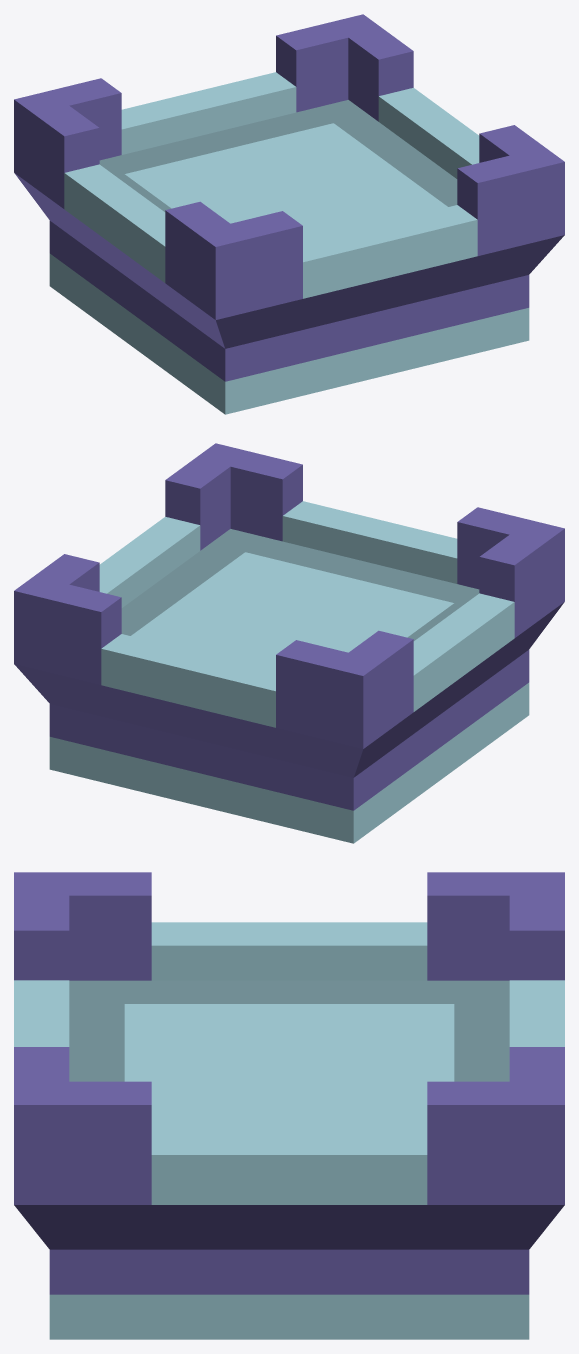
Rendered from towerSquare_topB.dae.
3 views of the same model, one above another, from view 1: azimuth 30°, elevation 25°; view 2: azimuth 150°, elevation 25°; view 3: azimuth 270°, elevation 25° (orthographic). The views are drawn at different scales.
Parts seen in each view (by area): view 1: towerSquare_topB; view 2: towerSquare_topB; view 3: towerSquare_topB.
Part boxes in pixels (x1,y1,x2,y2): towerSquare_topB: (14,14,564,414); towerSquare_topB: (14,443,564,843); towerSquare_topB: (14,872,564,1339).
Size of the model in its own units: 1 by 0.5 by 1.
